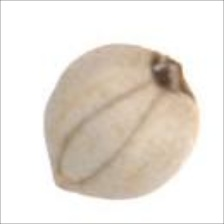L5: (59, 81, 160, 182), (147, 49, 198, 102), (51, 172, 81, 194)
L6: (40, 41, 202, 202)
